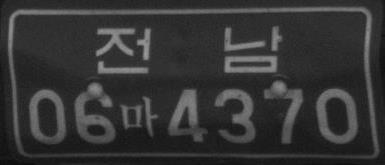0: (315, 86, 358, 144), (28, 87, 65, 145)
3: (214, 87, 257, 143)
4: (168, 87, 208, 143)
6: (74, 87, 117, 146)
7: (262, 87, 304, 144)
마: (119, 96, 158, 137)
전남_D: (95, 24, 283, 74)
